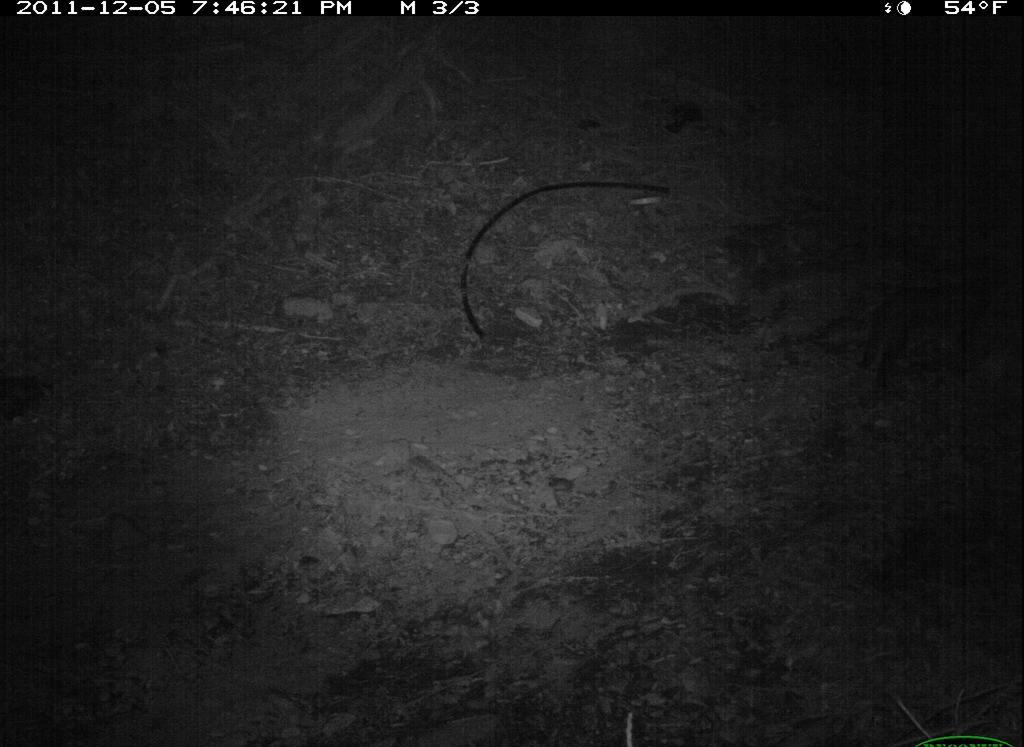cat: (852, 269, 1012, 393)
